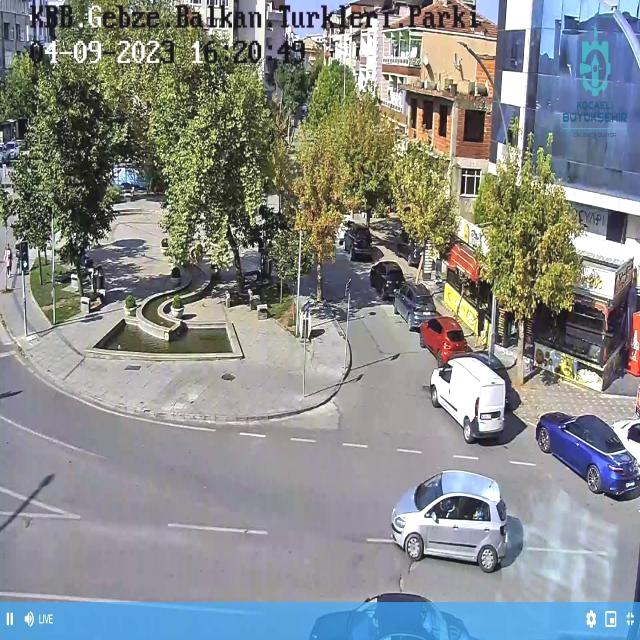Car: (393, 470, 509, 574), (535, 411, 640, 500), (419, 315, 469, 369), (393, 283, 437, 331), (369, 260, 406, 302), (343, 222, 373, 262)
Van: (429, 357, 507, 443)
